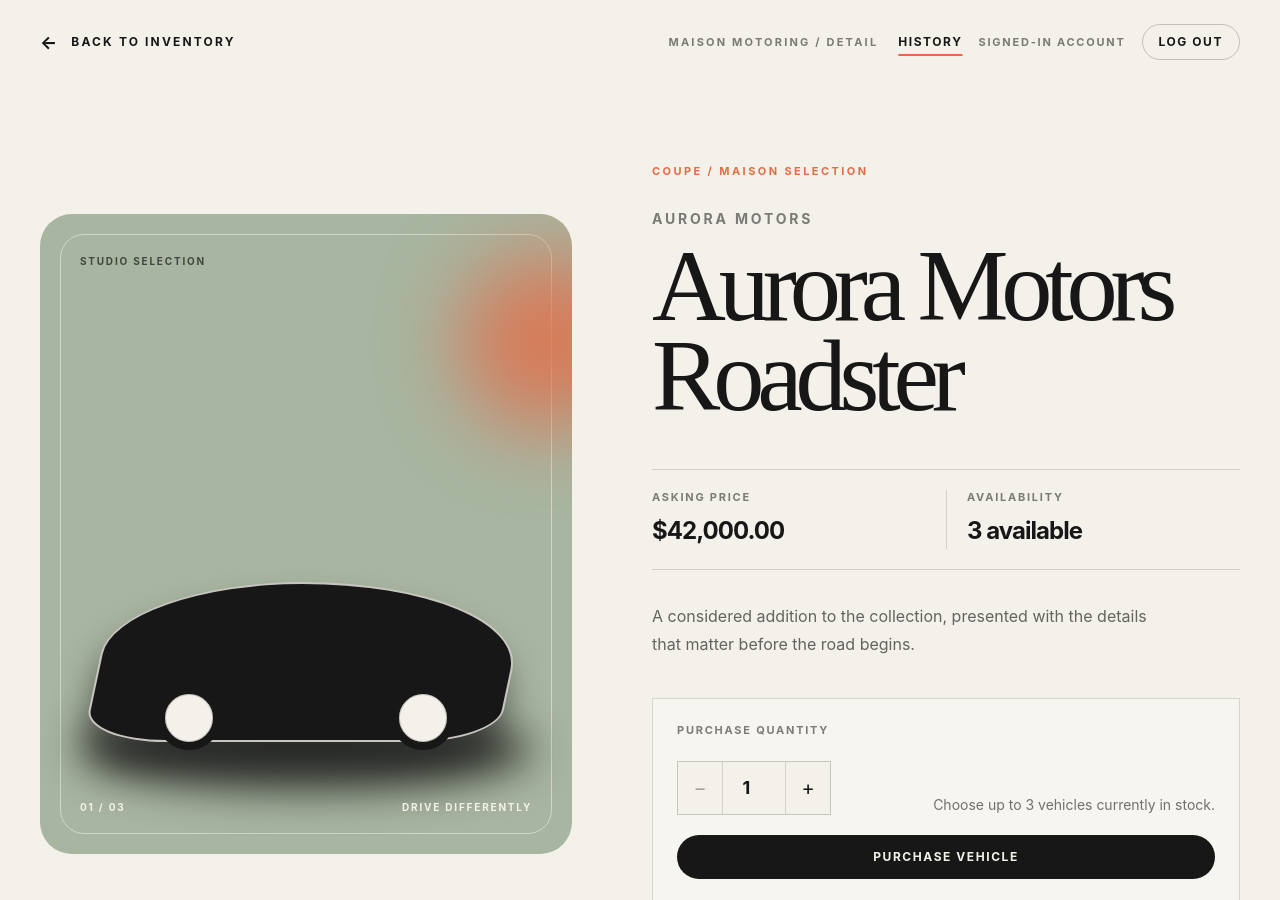
Scenario: vehicle purchase flow › rejects a zero purchase quantity without making a request
Replace the text in the number field labelled "Purchase quantity" with "0" at (754, 788), box x1=722 y1=762 x2=786 y2=814
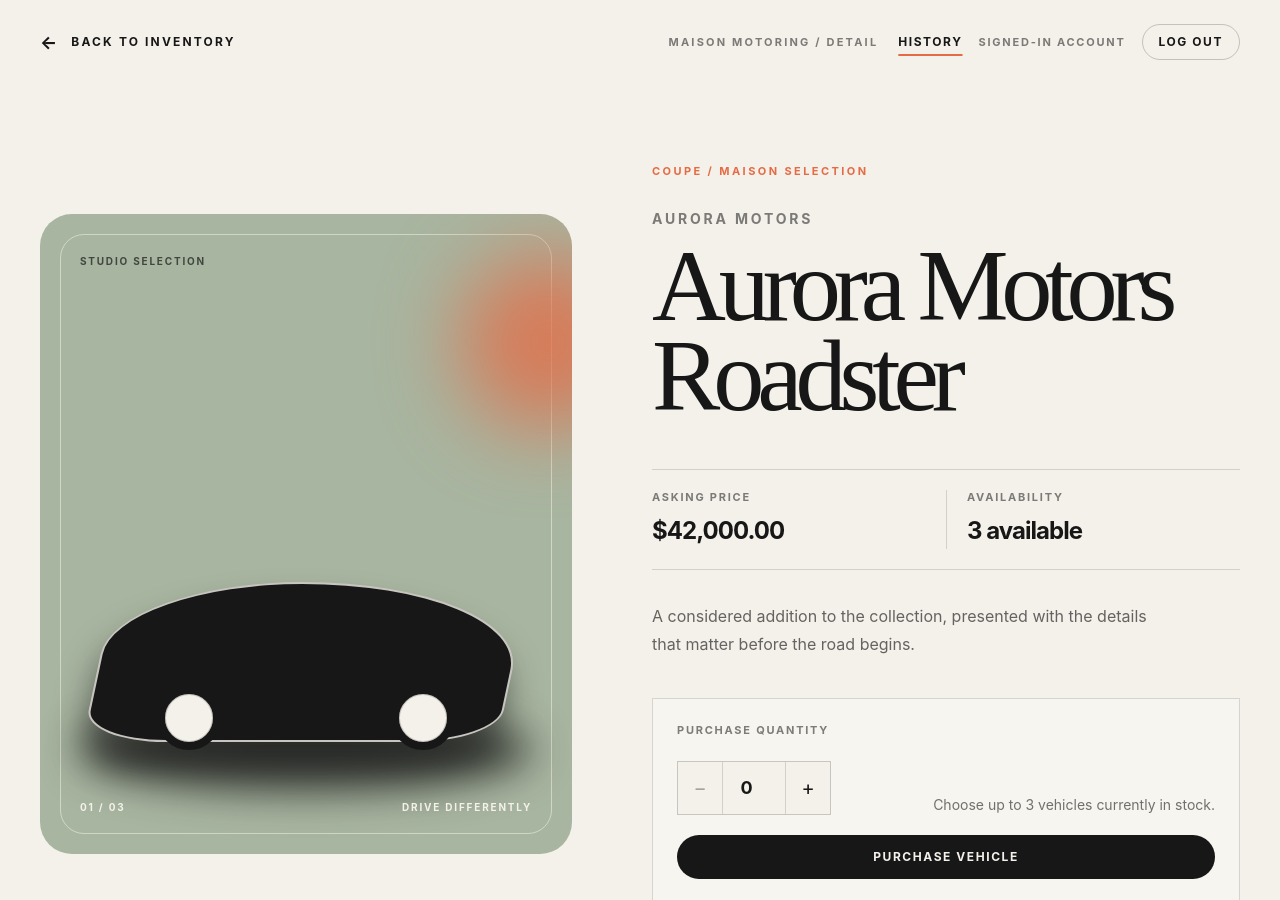
Click the button "Purchase vehicle".
click(946, 857)  # box x1=677 y1=835 x2=1215 y2=879
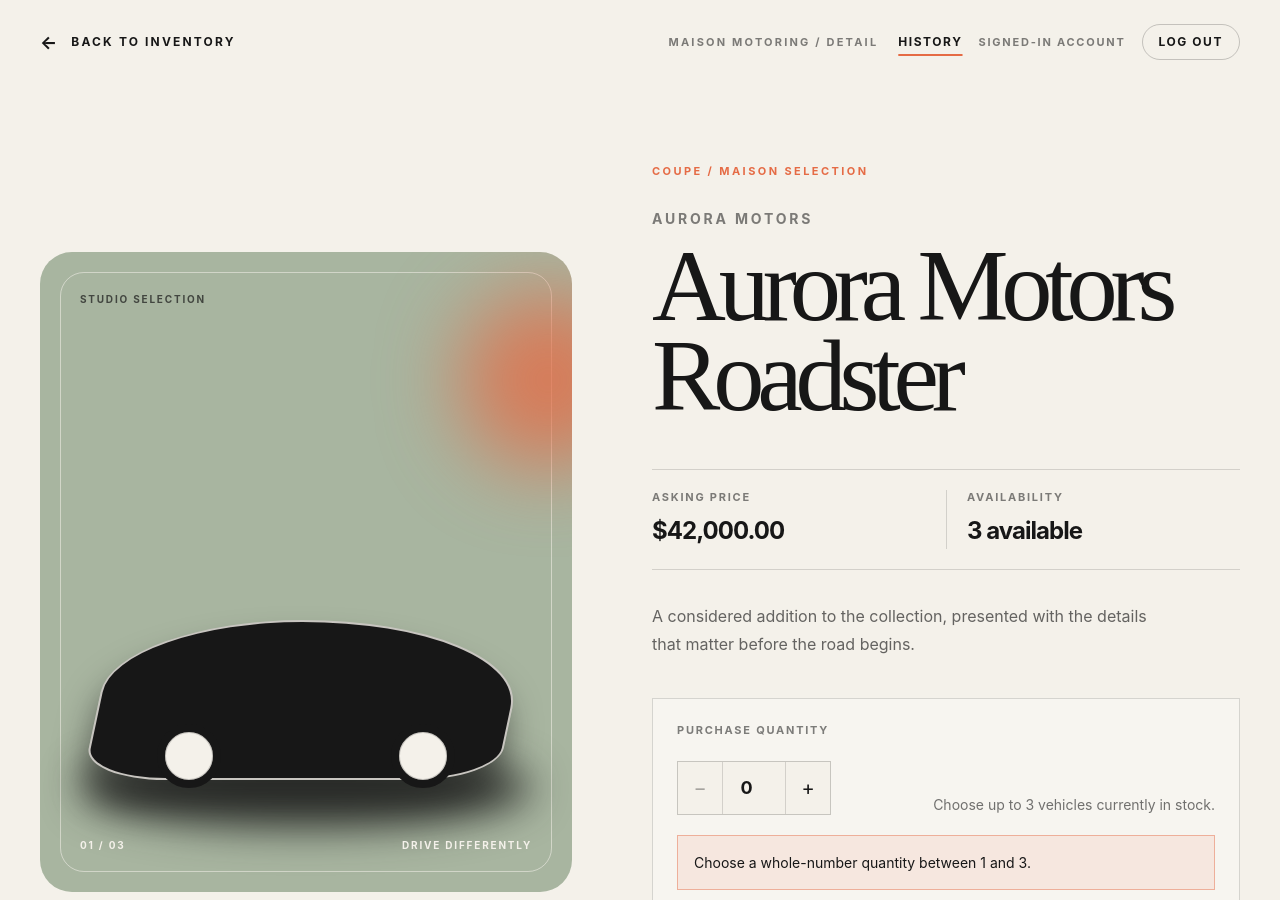
Expected: the message shows "whole-number quantity", x1=694 y1=854 x2=1031 y2=871
